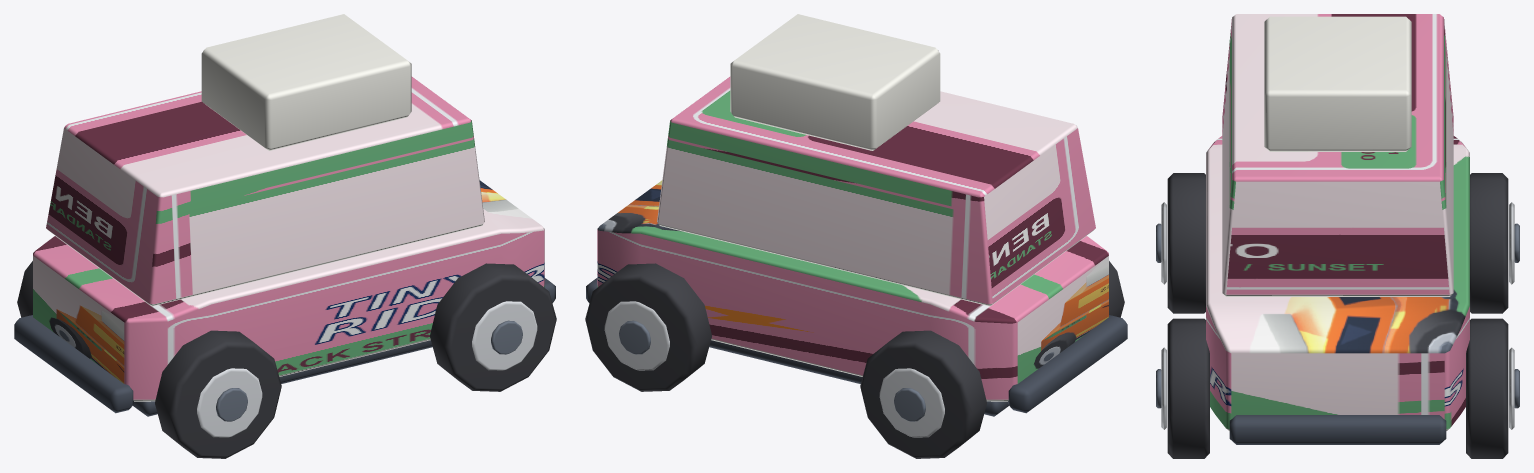
3 views of the same model, side by side, from view 1: azimuth 30°, elevation 25°; view 2: azimuth 150°, elevation 25°; view 3: azimuth 270°, elevation 25° (orthographic). The views are drawn at different scales.
Visible parts, largest first — view 1: SS-04_cabin, SS-04_connected_shell, lunch box, Tire, Tire.002, front bumper, Rim, Rim.002, underbody, Hub.002, Hub, Tire.001; view 2: SS-04_cabin, SS-04_connected_shell, lunch box, Tire.001, Tire.003, front bumper, Rim.001, Rim.003, underbody, Hub.003, Hub.001, Tire; view 3: SS-04_cabin, SS-04_connected_shell, lunch box, rear bumper, Tire.002, Tire.003, Tire, Tire.001, Rim, Rim.001, Rim.002, Rim.003.
Part boxes in pixels (x1=…): SS-04_cabin: x1=46, y1=76, x2=484, y2=306; SS-04_connected_shell: x1=33, y1=180, x2=544, y2=401; lunch box: x1=201, y1=14, x2=411, y2=150; Tire: x1=155, y1=330, x2=281, y2=458; Tire.002: x1=430, y1=263, x2=556, y2=391; front bumper: x1=14, y1=315, x2=133, y2=413; Rim: x1=197, y1=368, x2=262, y2=437; Rim.002: x1=472, y1=301, x2=537, y2=370; underbody: x1=132, y1=340, x2=432, y2=416; Hub.002: x1=491, y1=320, x2=522, y2=354; Hub: x1=216, y1=388, x2=247, y2=421; Tire.001: x1=17, y1=261, x2=32, y2=317; SS-04_cabin: x1=657, y1=76, x2=1095, y2=306; SS-04_connected_shell: x1=597, y1=180, x2=1108, y2=401; lunch box: x1=730, y1=14, x2=940, y2=150; Tire.001: x1=860, y1=330, x2=986, y2=458; Tire.003: x1=585, y1=263, x2=711, y2=391; front bumper: x1=1008, y1=315, x2=1127, y2=413; Rim.001: x1=879, y1=368, x2=944, y2=437; Rim.003: x1=604, y1=301, x2=669, y2=370; underbody: x1=709, y1=340, x2=1009, y2=416; Hub.003: x1=619, y1=320, x2=650, y2=354; Hub.001: x1=894, y1=388, x2=925, y2=421; Tire: x1=1109, y1=261, x2=1124, y2=317; SS-04_cabin: x1=1222, y1=14, x2=1453, y2=296; SS-04_connected_shell: x1=1206, y1=136, x2=1469, y2=430; lunch box: x1=1264, y1=16, x2=1411, y2=151; rear bumper: x1=1229, y1=415, x2=1446, y2=444; Tire.002: x1=1167, y1=318, x2=1209, y2=458; Tire.003: x1=1466, y1=318, x2=1508, y2=458; Tire: x1=1167, y1=173, x2=1205, y2=313; Tire.001: x1=1470, y1=173, x2=1508, y2=313; Rim: x1=1161, y1=202, x2=1166, y2=284; Rim.001: x1=1509, y1=202, x2=1514, y2=284; Rim.002: x1=1161, y1=347, x2=1166, y2=429; Rim.003: x1=1509, y1=347, x2=1514, y2=429.
Bounding box in the file's own units: 341 × 227 × 222.
